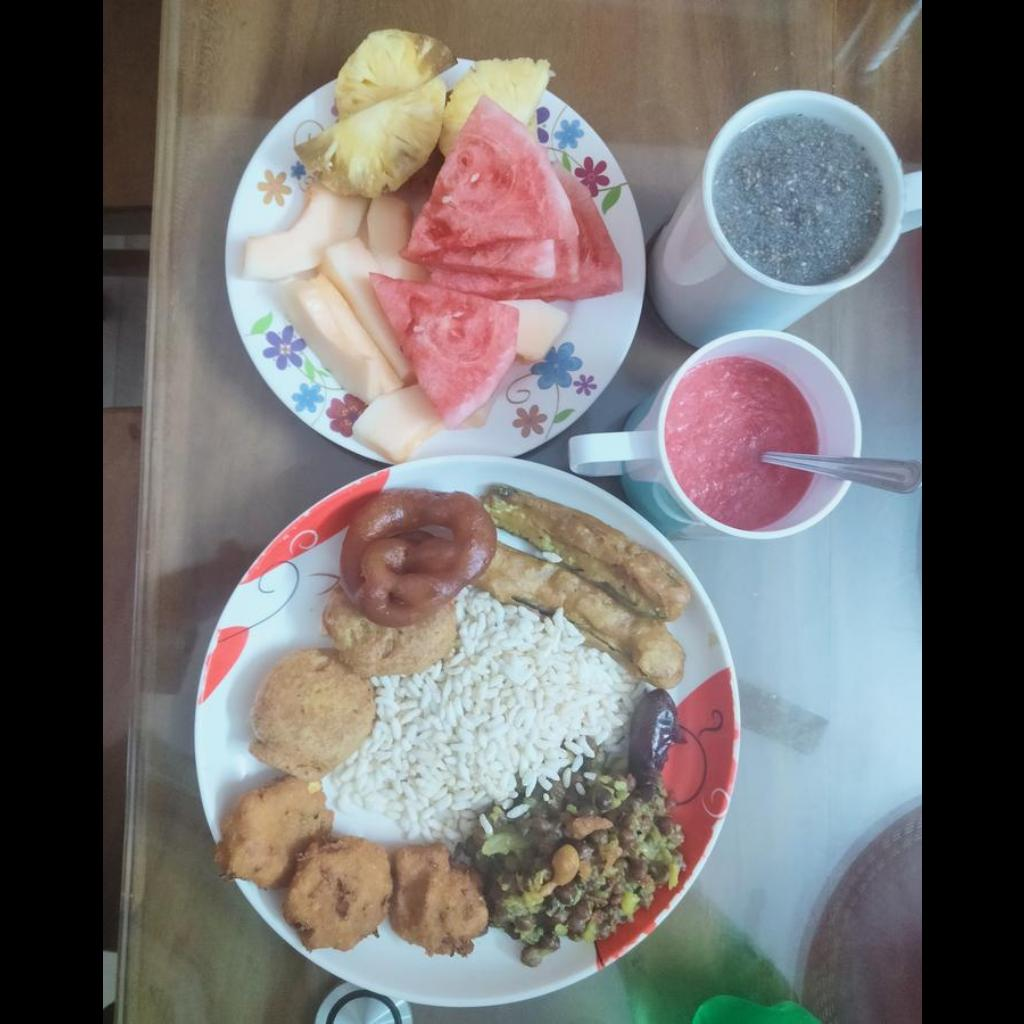beguni: (487, 487, 693, 683)
chola: (505, 770, 678, 944)
chop-alu: (219, 605, 461, 888)
dates: (627, 689, 678, 790)
jilapi: (345, 488, 484, 617)
juice: (664, 357, 817, 529), (725, 121, 879, 282)
papaya: (242, 189, 442, 462)
peyaju: (282, 840, 490, 954)
pineapple: (298, 25, 551, 202)
puffed-rice: (324, 591, 639, 842)
watermelon: (372, 114, 620, 415)
